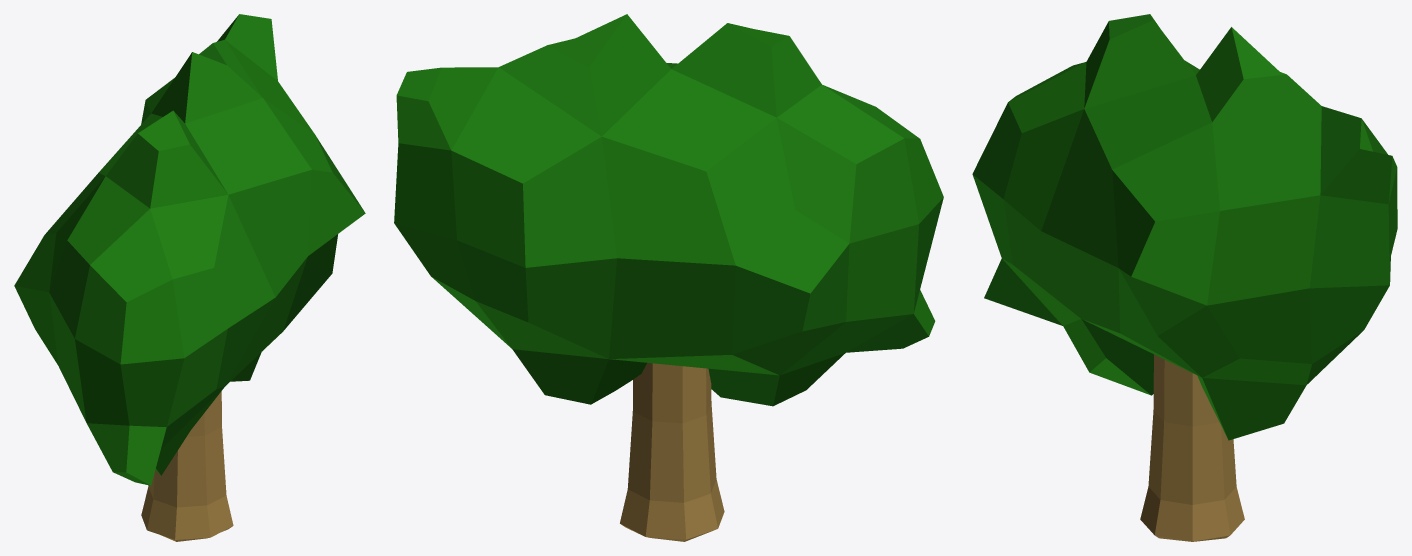
The model's file is tree2.fbx.
3 views of the same model, side by side, from view 1: azimuth 30°, elevation 25°; view 2: azimuth 150°, elevation 25°; view 3: azimuth 270°, elevation 25° (orthographic). The views are drawn at different scales.
Visible parts, largest first — view 1: Procedural Low Poly Rock, Cube; view 2: Procedural Low Poly Rock, Cube; view 3: Procedural Low Poly Rock, Cube.
Part boxes in pixels (x1,y1,x2,y2): Procedural Low Poly Rock: (14,14,365,485); Cube: (141,391,233,541); Procedural Low Poly Rock: (394,14,943,406); Cube: (620,363,724,541); Procedural Low Poly Rock: (972,14,1397,440); Cube: (1140,354,1244,541).
Size of the model in its own units: 182 by 242 by 183.
